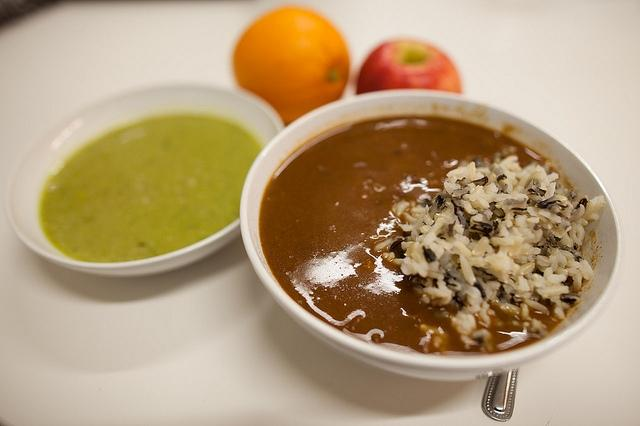apple: (356, 41, 461, 94)
orange: (234, 6, 351, 127)
